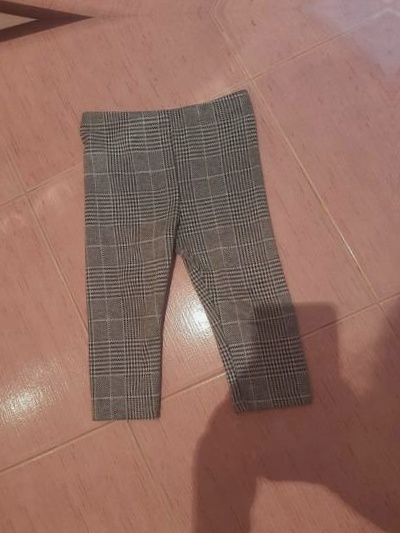Pants: (43, 69, 327, 433)
